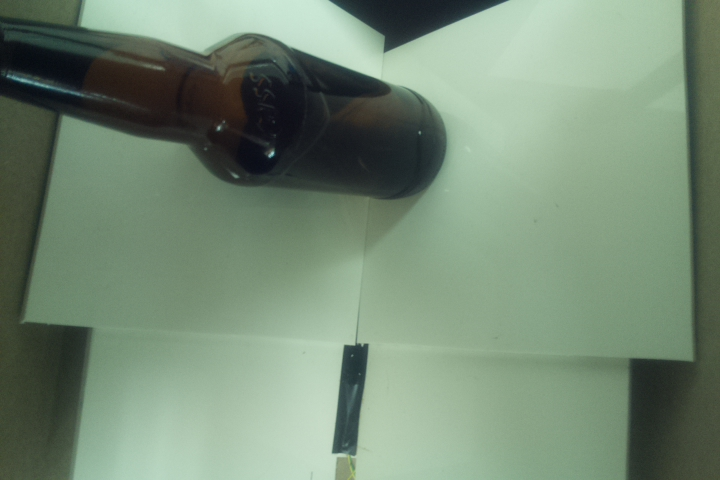makju: (1, 11, 448, 201)
